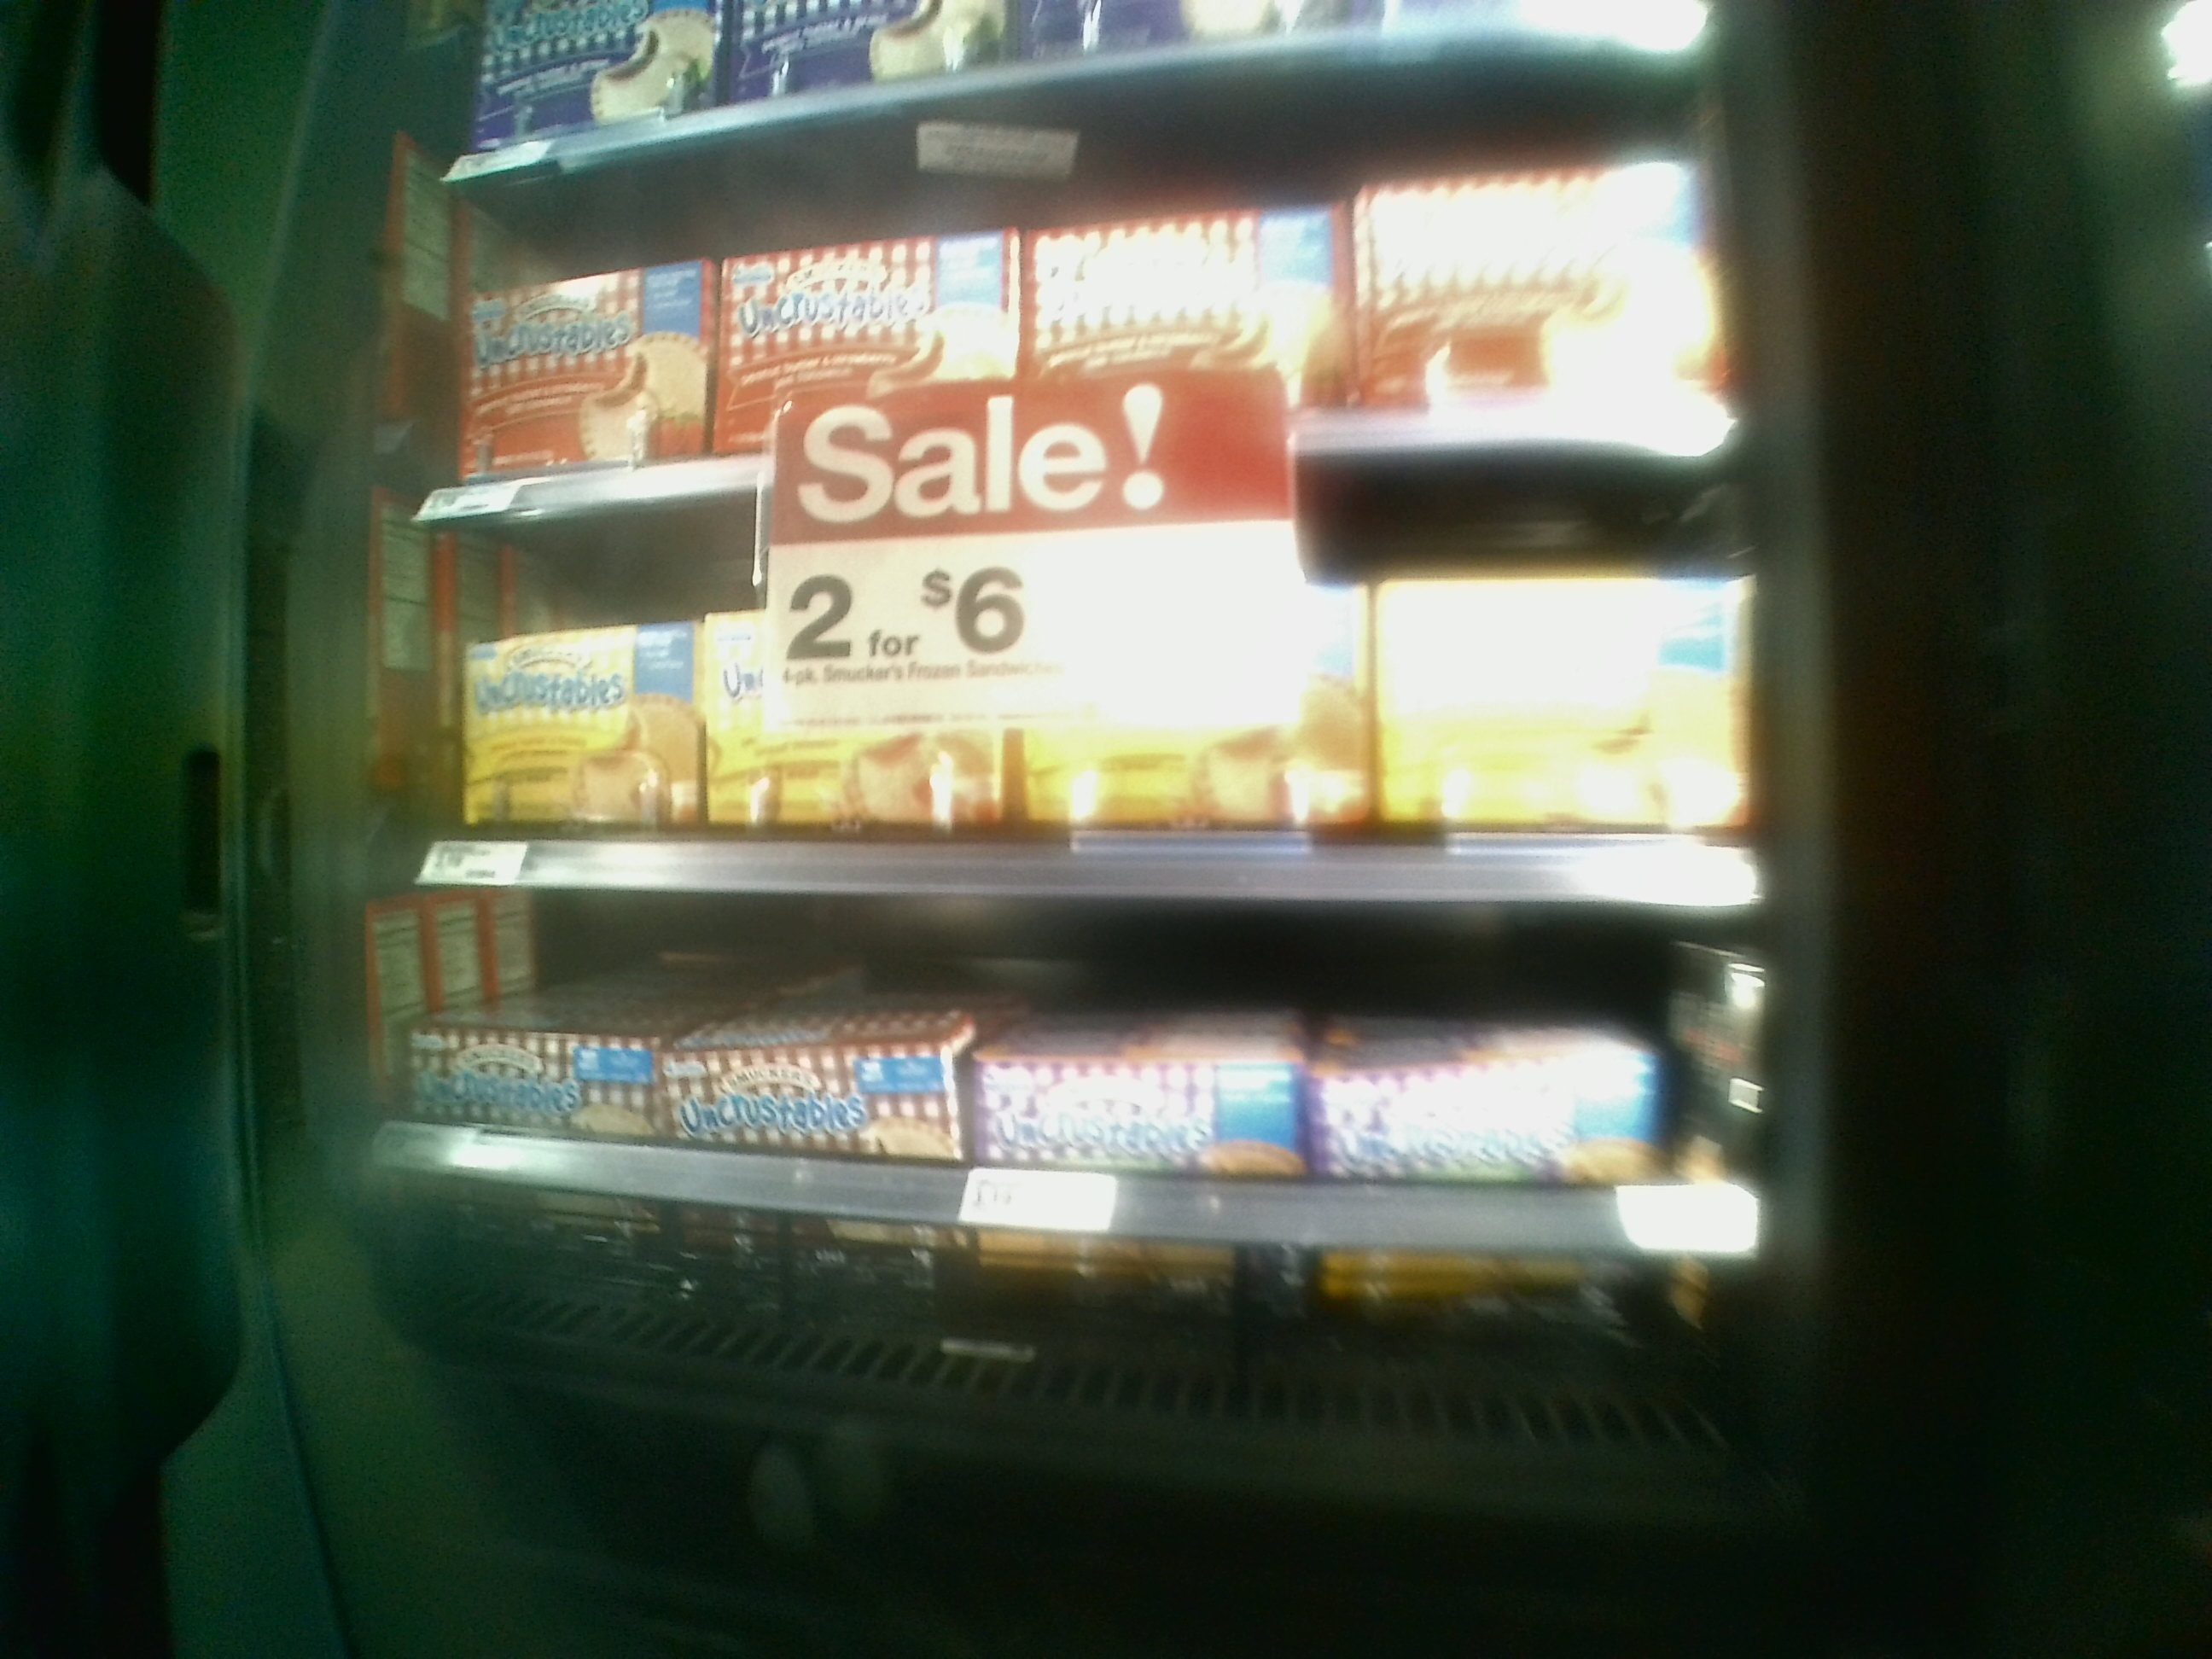shelf: (388, 882, 1815, 1446), (394, 504, 1775, 911), (439, 150, 1731, 509)
